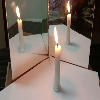fire: (54, 26, 60, 47)
